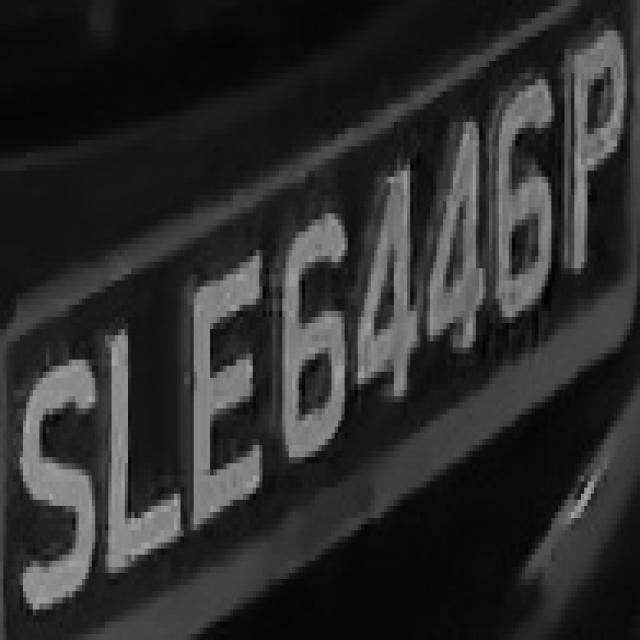4: (338, 158, 423, 439), (417, 110, 492, 408)
6: (476, 79, 571, 335), (269, 213, 355, 488)
E: (180, 281, 286, 548)
L: (95, 311, 187, 573)
P: (555, 36, 630, 311)
S: (13, 347, 105, 628)
